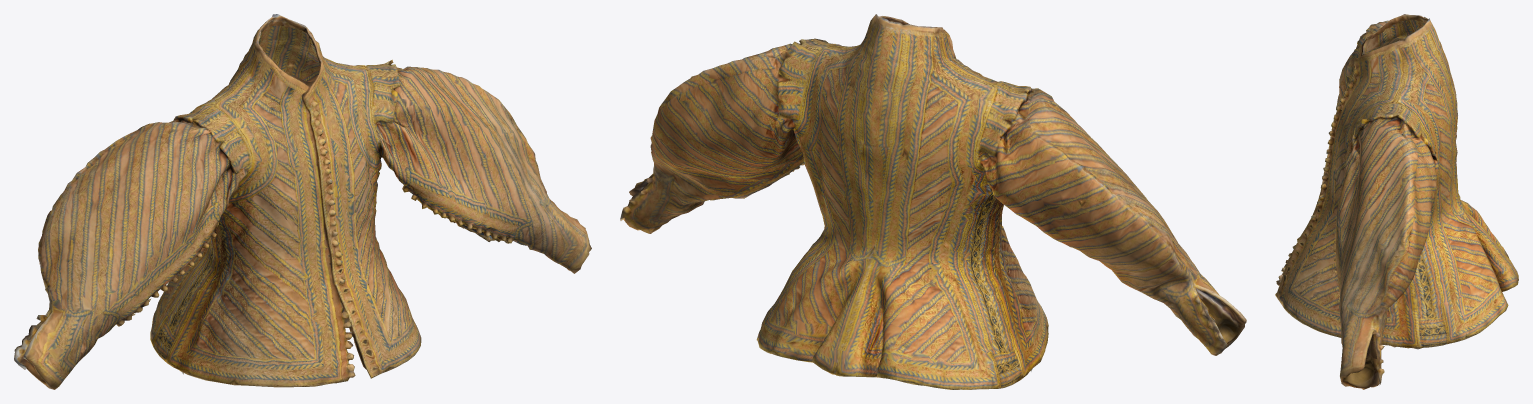
Rendered from outer_douplet.glb.
3 renders of one model, left to right at view 1: azimuth 30°, elevation 25°; view 2: azimuth 150°, elevation 25°; view 3: azimuth 270°, elevation 25°, orthographic. The views are drawn at different scales.
Parts seen in each view (by area): view 1: outer_douplet; view 2: outer_douplet; view 3: outer_douplet.
Part boxes in pixels (x1,y1,x2,y2): outer_douplet: (14, 14, 591, 389); outer_douplet: (620, 14, 1246, 389); outer_douplet: (1275, 14, 1518, 389).
Bounding box in the file's own units: 99.13 × 52.87 × 41.13.
Materials: 1 (1 with a texture image).
